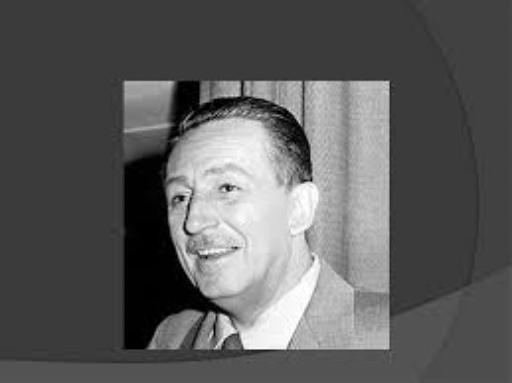left_eye: (217, 184, 250, 198)
left_lip_corner: (227, 244, 245, 257)
right_eye: (172, 195, 193, 209)
